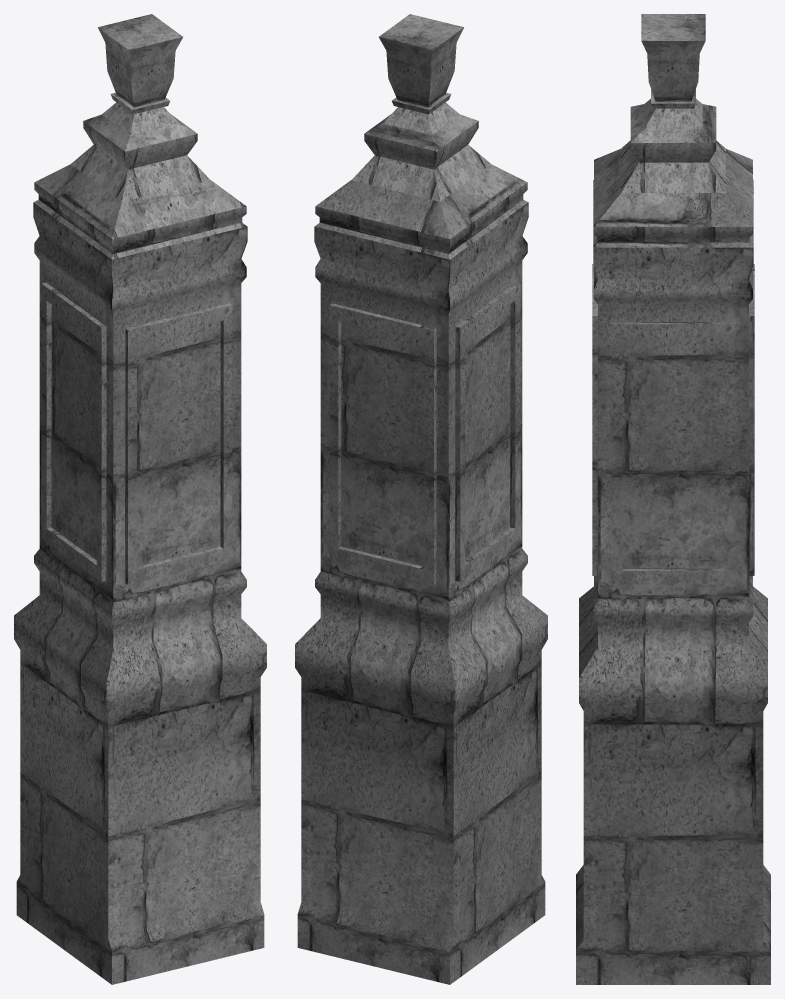
The model's file is gate collumn updated.fbx.
3 renders of one model, left to right at view 1: azimuth 30°, elevation 25°; view 2: azimuth 150°, elevation 25°; view 3: azimuth 270°, elevation 25°, orthographic. The views are drawn at different scales.
Parts seen in each view (by area): view 1: collumn; view 2: collumn; view 3: collumn.
Boxes of the visible parts, <box> form: collumn: <box>14,14,266,984</box>; collumn: <box>295,14,547,984</box>; collumn: <box>576,14,770,984</box>.
Size of the model in its own units: 78.1 by 419 by 80.41.
1 material, 1 textured.
